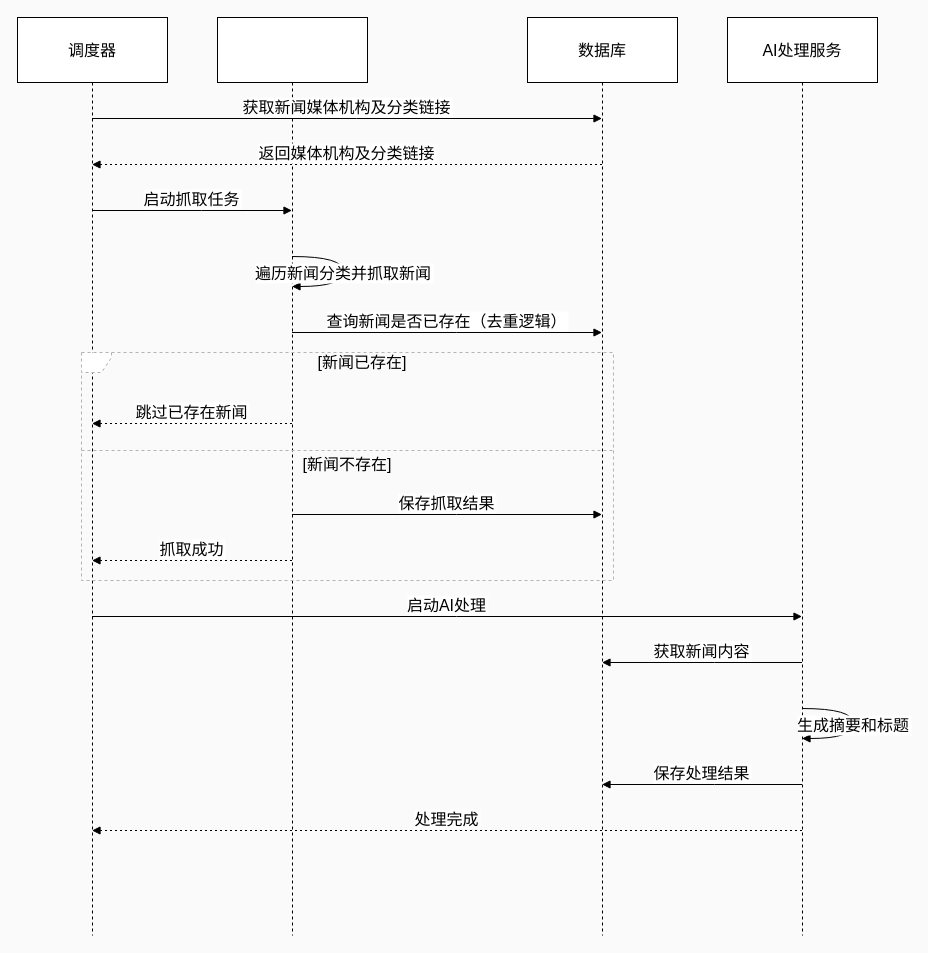
The diagram is 928 pixels wide and 953 high, and some of its shapes have lost their labels. The box of each missing label's shape, as (x1, y1, x2, y2) in pixels:
alt: (80, 352, 614, 580)
抓取服务: (216, 16, 368, 936)
